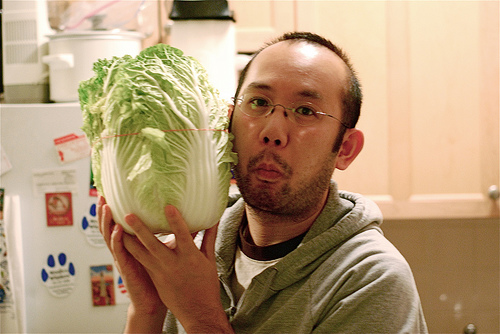cabbage: (75, 44, 241, 242)
